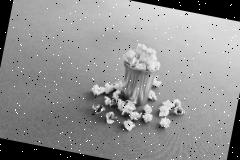paper: (122, 40, 162, 73), (122, 119, 136, 132), (104, 111, 117, 125), (90, 84, 105, 96), (90, 104, 106, 115), (158, 104, 170, 118), (158, 118, 171, 130), (152, 74, 163, 88), (103, 82, 114, 95), (143, 104, 153, 114)
